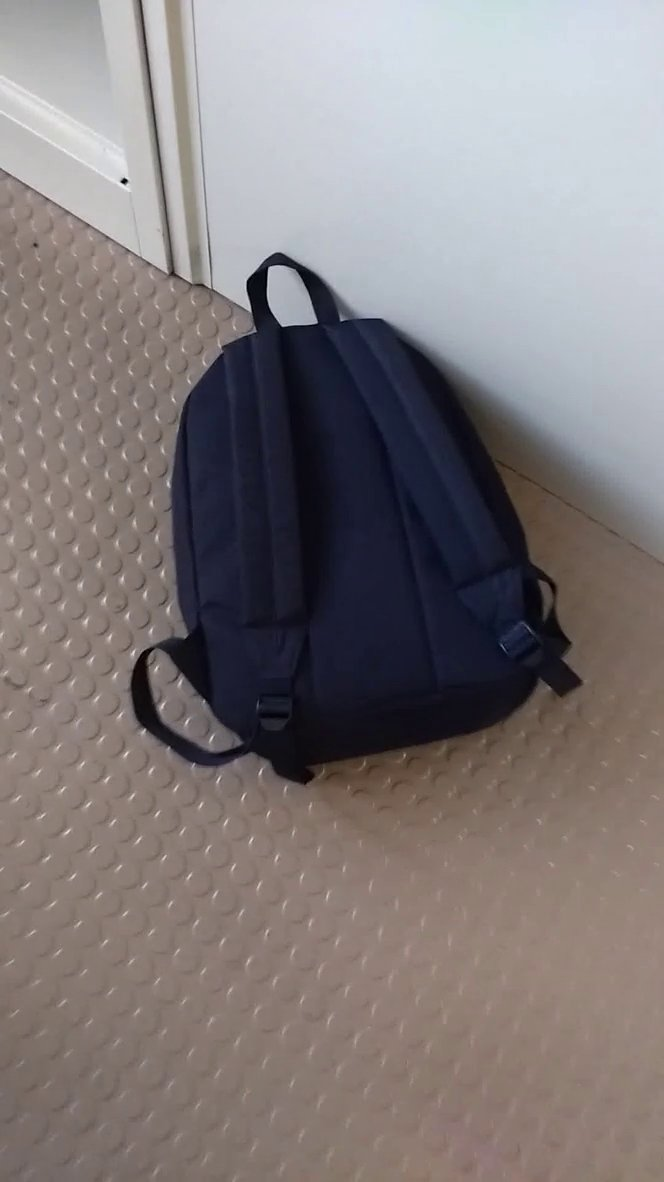bag: (119, 231, 618, 824)
